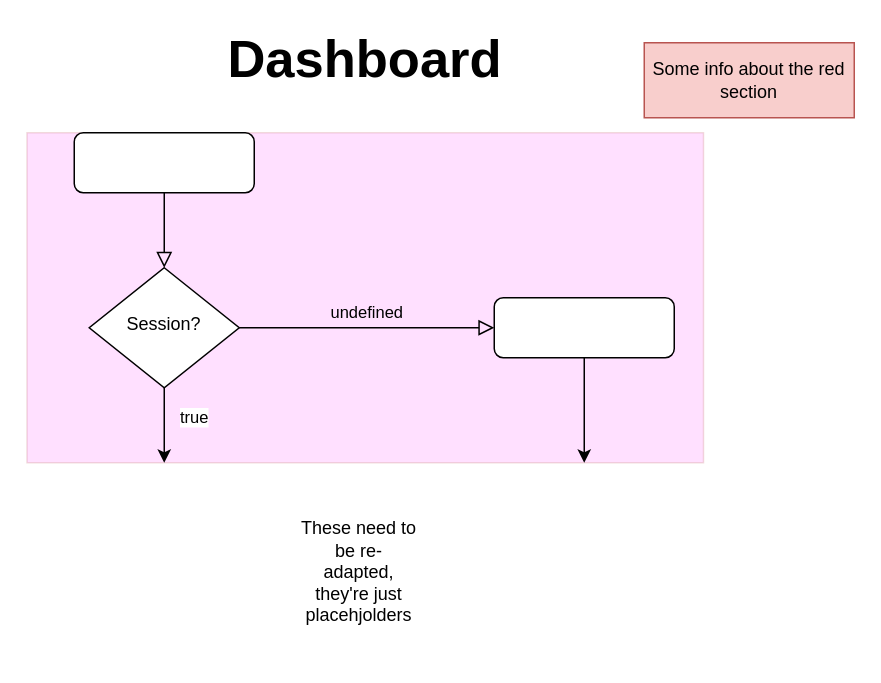
Some shapes in this 881 by 683 pixel diagram are drawn without their labels. The box of each missing label's shape, as (x1, y1, x2, y2) in pixels:
Display new user workflow: (493, 296, 674, 358)
From Login Page: (73, 131, 254, 193)
